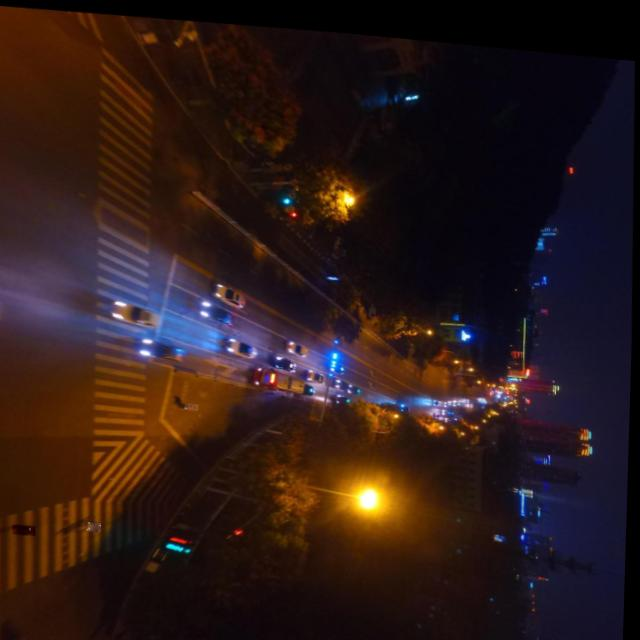Person: (14, 523, 37, 535), (88, 519, 102, 529), (185, 399, 199, 406)
